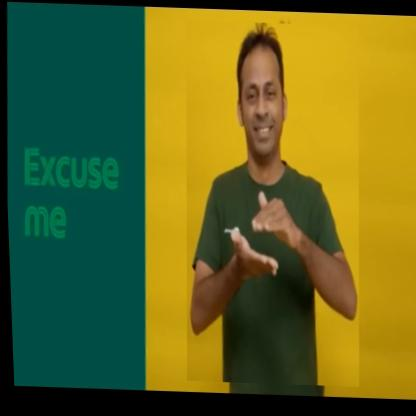ExcuseMe: (174, 20, 369, 387)
